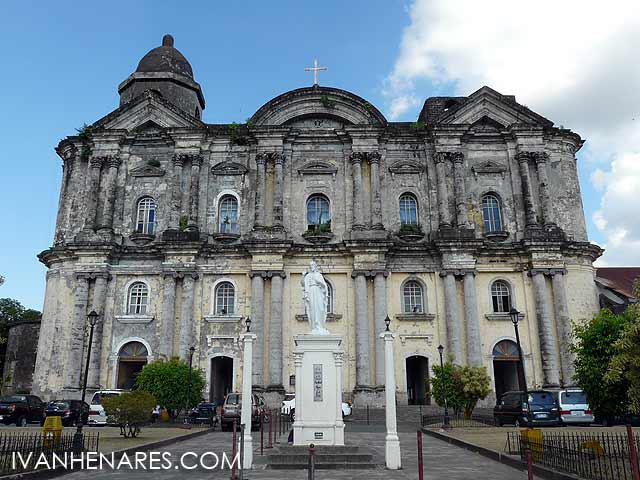taal_basilica_church_taal_batangas: (34, 27, 606, 426)
